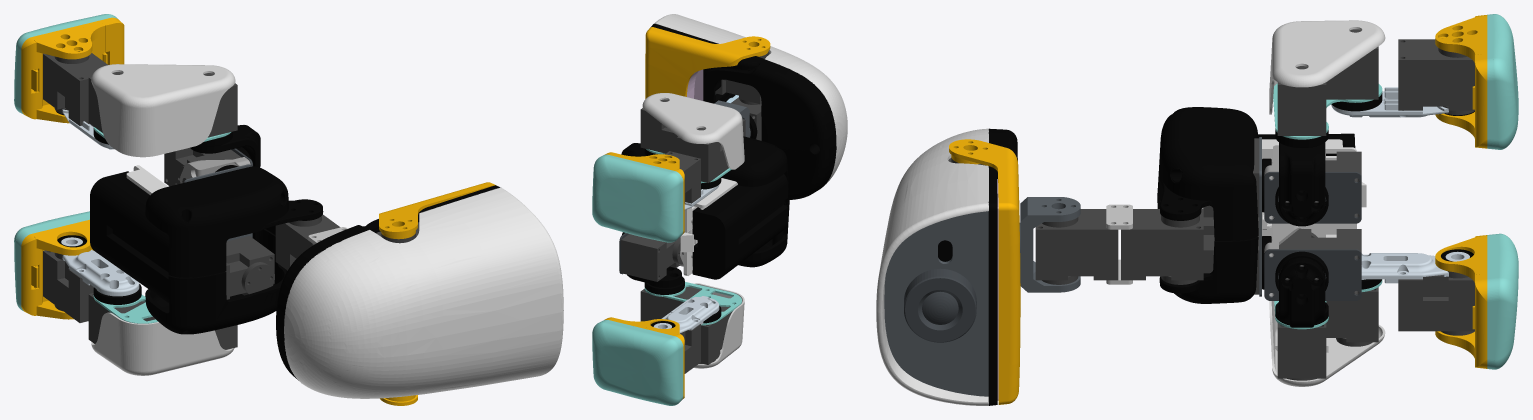
The model's file is microduck.glb.
The picture shows the model from 3 angles, left to right: view 1: azimuth 30°, elevation 25°; view 2: azimuth 150°, elevation 25°; view 3: azimuth 270°, elevation 25°; orthographic projection. The views are drawn at different scales.
Parts seen in each view (by area): view 1: top_head_shell, xl330 (×8), left_shell, upper_leg_left, np_f970, right_shell, upper_leg_right, ankle_left, foot_left, bottom_head_shell, leg, jaw (+8 smaller); view 2: xl330 (×9), bottom_head_shell, np_f970, sole_left, sole_right, jaw, upper_leg_left, top_head_shell, left_shell, leg, power_support, upper_leg_right (+10 smaller); view 3: xl330 (×11), face_part, left_shell, top_head_shell, jaw, hip_l (×2), upper_leg_left, bearing_roll (×2), sole_right, sole_left, right_shell, leg (×2) (+13 smaller).
Boxes of the visible parts, x1,y1,x2,y2 form: top_head_shell: [284, 187, 563, 398]; xl330 (×8): [43, 53, 340, 343]; left_shell: [145, 166, 323, 277]; upper_leg_left: [91, 64, 235, 157]; np_f970: [90, 171, 169, 303]; right_shell: [145, 229, 287, 334]; upper_leg_right: [91, 312, 234, 375]; ankle_left: [34, 23, 105, 123]; foot_left: [21, 17, 124, 119]; bottom_head_shell: [276, 185, 500, 380]; leg: [61, 237, 139, 296]; jaw: [379, 182, 496, 405]; xl330 (×9): [621, 52, 770, 373]; bottom_head_shell: [651, 23, 836, 199]; np_f970: [692, 174, 787, 279]; sole_left: [592, 154, 683, 242]; sole_right: [592, 320, 683, 405]; jaw: [645, 27, 770, 98]; upper_leg_left: [642, 93, 744, 169]; top_head_shell: [654, 14, 847, 184]; left_shell: [721, 136, 789, 205]; leg: [653, 296, 719, 333]; power_support: [680, 178, 737, 275]; upper_leg_right: [693, 283, 744, 368]; xl330 (×11): [1035, 29, 1474, 380]; face_part: [884, 211, 988, 396]; left_shell: [1157, 107, 1258, 240]; top_head_shell: [876, 128, 988, 405]; jaw: [949, 139, 1020, 404]; hip_l (×2): [1279, 142, 1325, 327]; upper_leg_left: [1269, 20, 1385, 114]; bearing_roll (×2): [1264, 172, 1361, 300]; sole_right: [1487, 233, 1518, 369]; sole_left: [1487, 14, 1518, 149]; right_shell: [1157, 192, 1258, 303]; leg (×2): [1331, 87, 1469, 283].
Bounding box in the file's own units: 0.1441 × 0.141 × 0.264.
